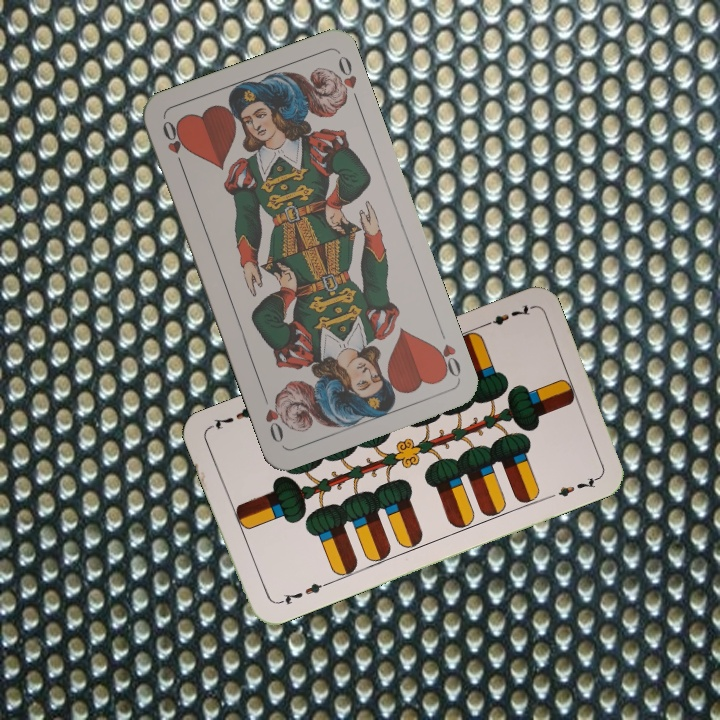E7: (477, 301, 534, 331), (273, 578, 330, 607)
HO: (158, 116, 187, 173), (428, 340, 464, 381)
